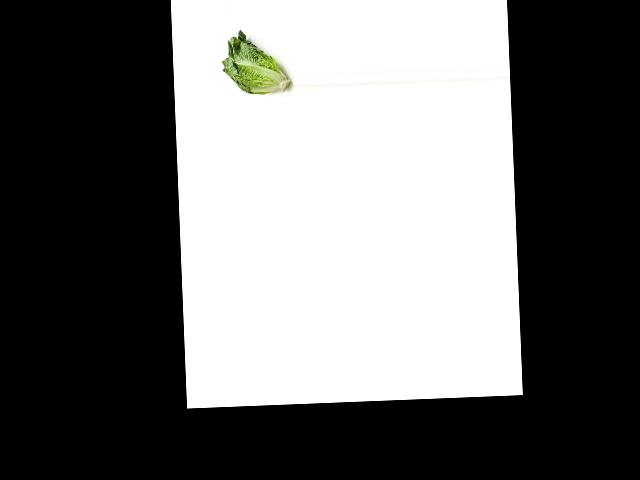lettuce: (218, 29, 289, 98)
